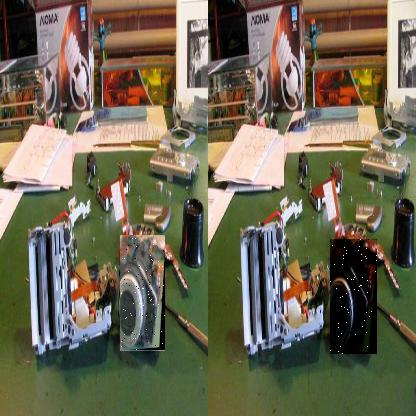Camera: (331, 240, 379, 356), (121, 237, 167, 355)
